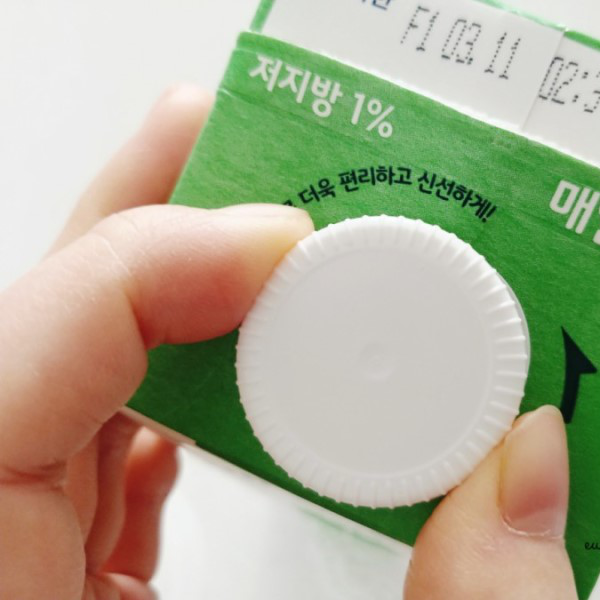milk: (115, 1, 599, 600)
